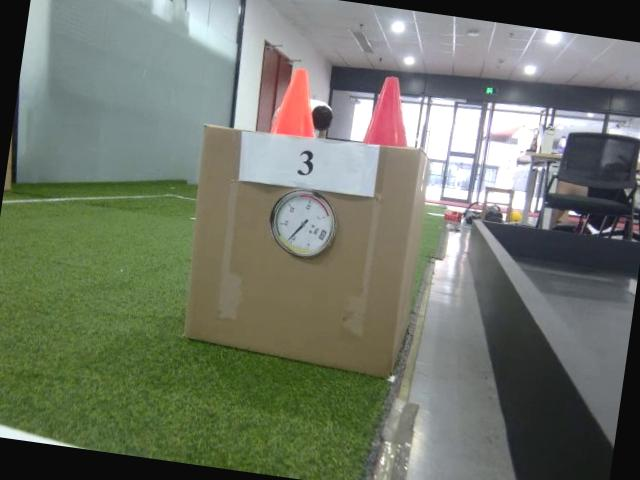3: (296, 146, 316, 178)
Dashboard: (266, 184, 342, 264)
orange_barrel: (269, 63, 326, 140)
red_barrel: (362, 70, 419, 149)
ssi: (318, 228, 328, 241)
